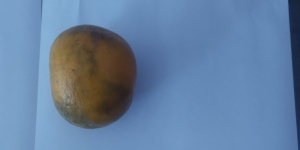BAD: (48, 23, 142, 129)
